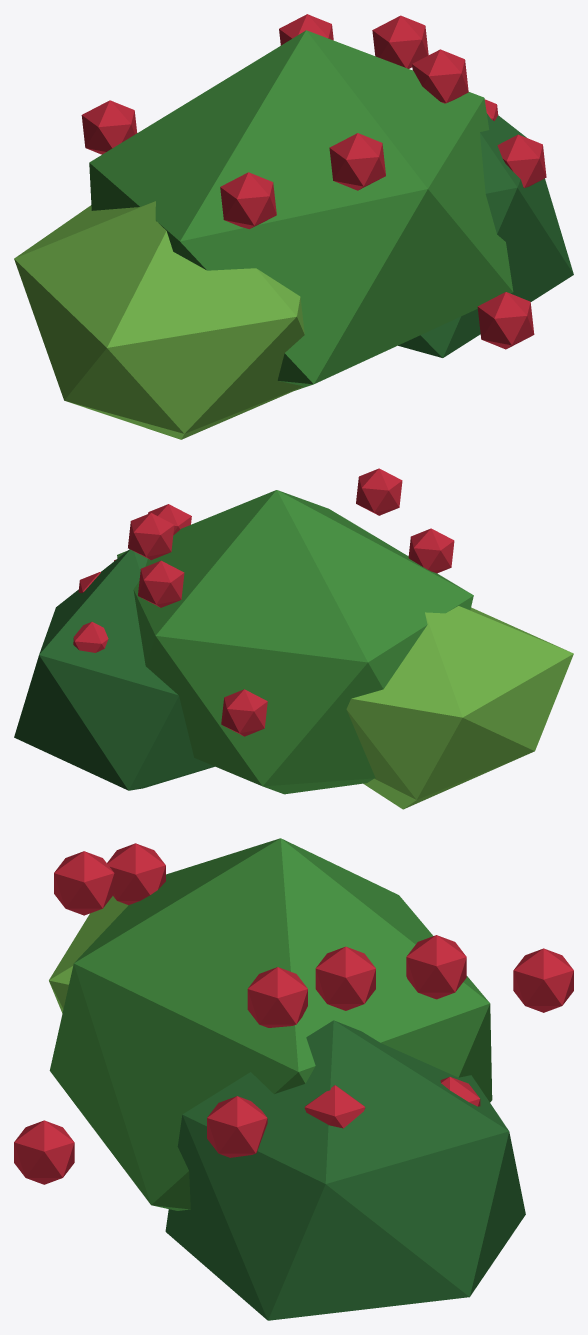
File: BerryBush.fbx
The picture shows the model from 3 angles, top to bottom: view 1: azimuth 30°, elevation 25°; view 2: azimuth 150°, elevation 25°; view 3: azimuth 270°, elevation 25°; orthographic projection. The views are drawn at different scales.
Parts seen in each view (by area): view 1: BerryBush; view 2: BerryBush; view 3: BerryBush.
Part boxes in pixels (x1,y1,x2,y2): BerryBush: (14, 14, 573, 439); BerryBush: (14, 468, 573, 809); BerryBush: (14, 838, 573, 1320).
Size of the model in its own units: 3.93 by 2.53 by 3.15.
1 material, 1 textured.
